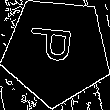P_E: (30, 30, 83, 72)
